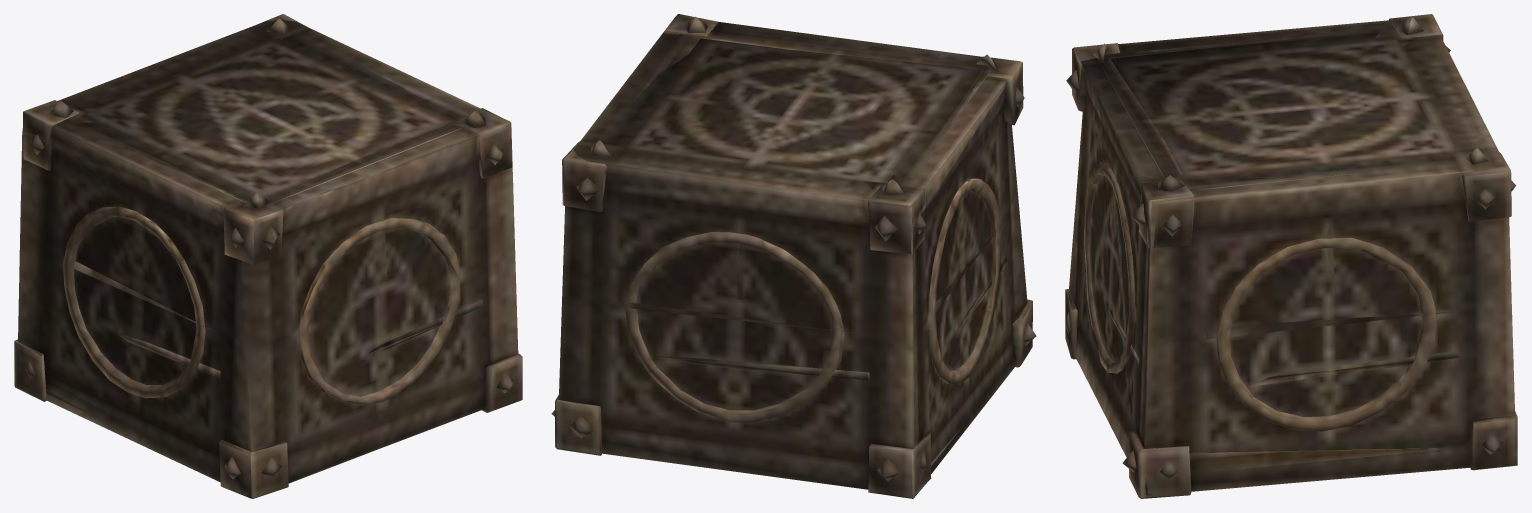
The picture shows the model from 3 angles, left to right: view 1: azimuth 30°, elevation 25°; view 2: azimuth 150°, elevation 25°; view 3: azimuth 270°, elevation 25°; orthographic projection. The views are drawn at different scales.
Parts seen in each view (by area): view 1: g_cube; view 2: g_cube; view 3: g_cube.
Boxes of the visible parts, x1,y1,x2,y2 form: g_cube: (14,14,522,498); g_cube: (551,14,1036,498); g_cube: (1065,14,1517,498).
Size of the model in its own units: 0.3 by 0.2333 by 0.3.
1 material, 1 textured.
